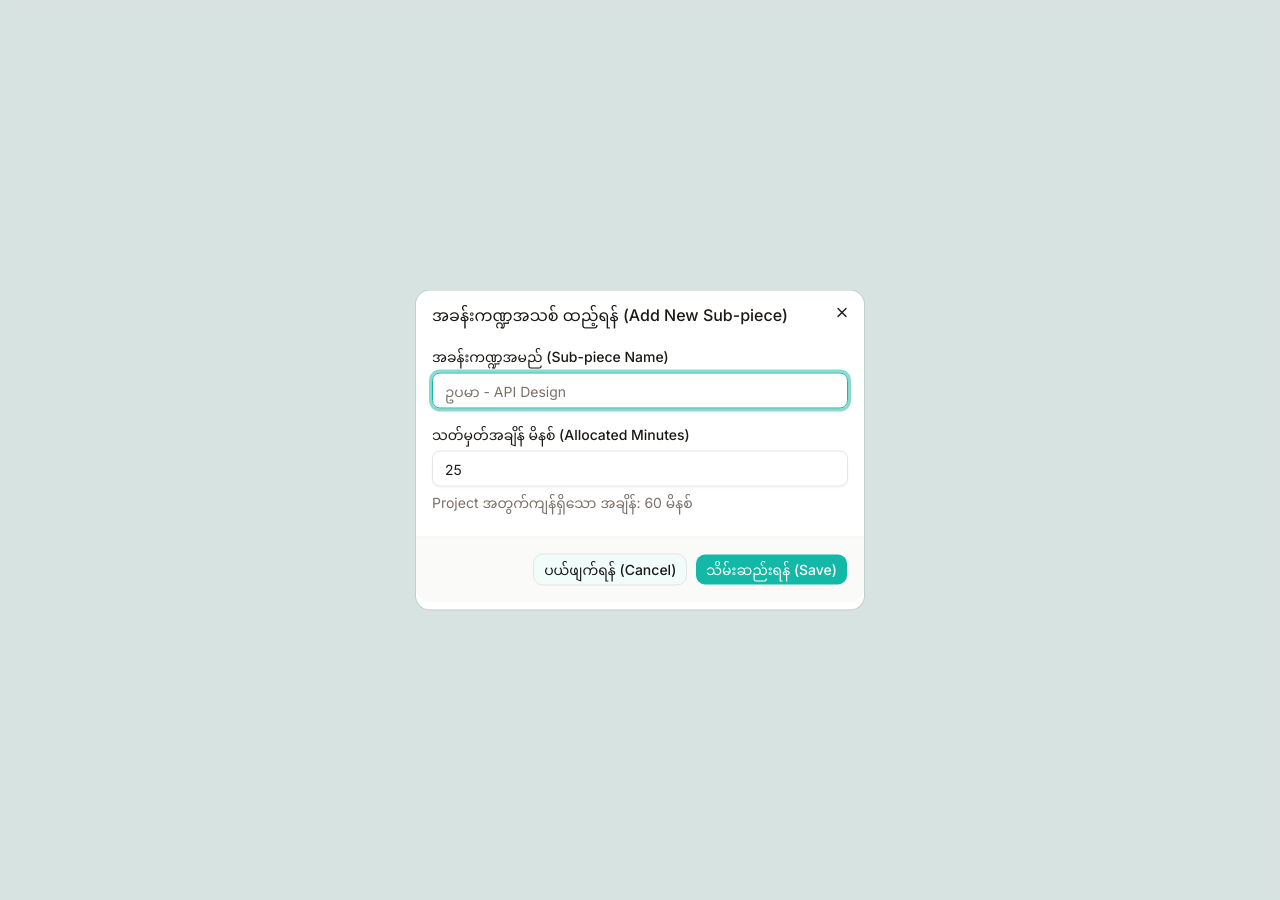
SubPieceForm › over-budget blocks Save and shows error
This screenshot has width=1280, height=900.
Type "Over Budget Task" into the field labelled "အခန်းကဏ္ဍအမည် (Sub-piece Name)".
click(640, 390); type("Over Budget Task")  # box left=432, top=372, right=848, bottom=408
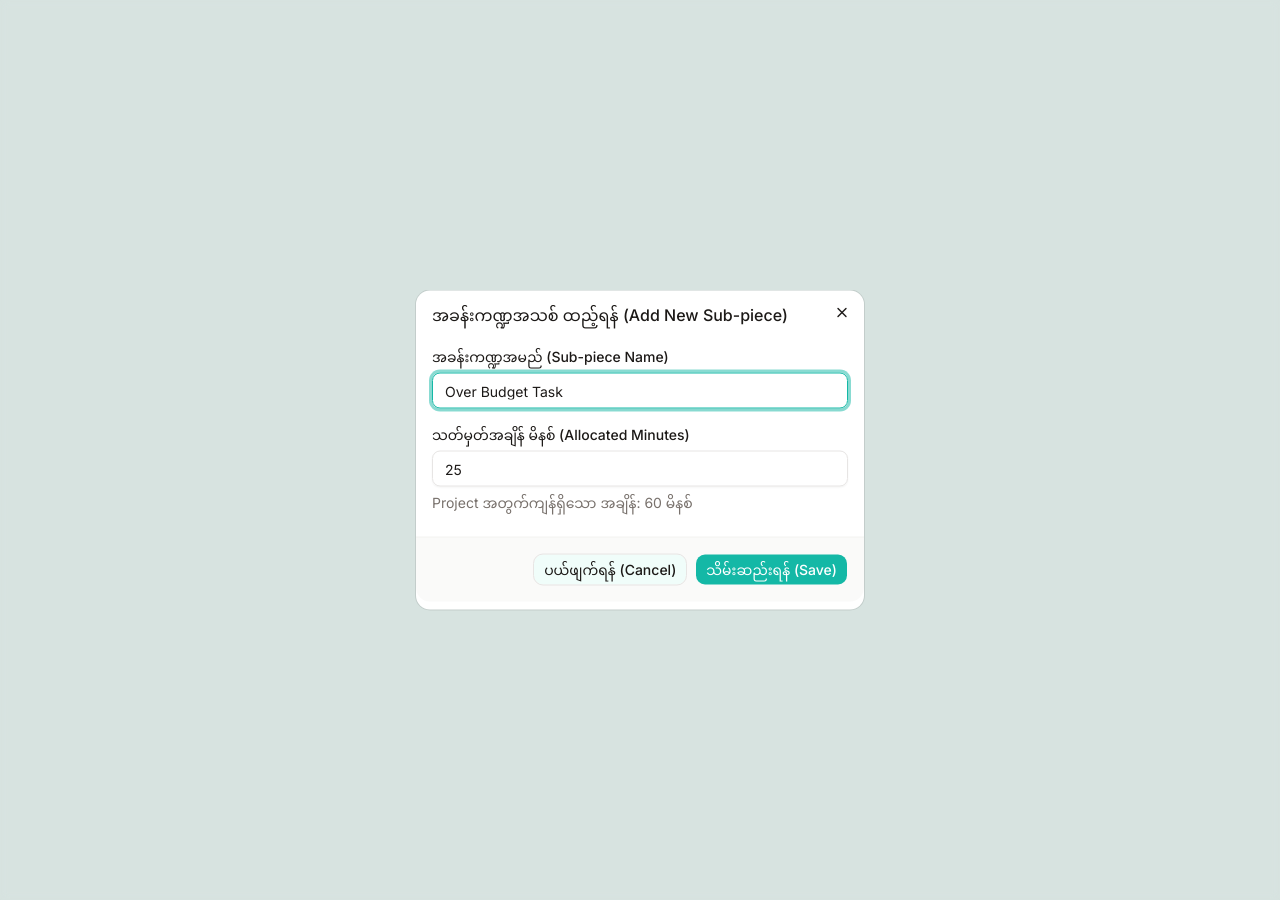
Replace the text in the number field labelled "သတ်မှတ်အချိန် မိနစ် (Allocated Minutes)" with "90" at (640, 468), box left=432, top=450, right=848, bottom=486
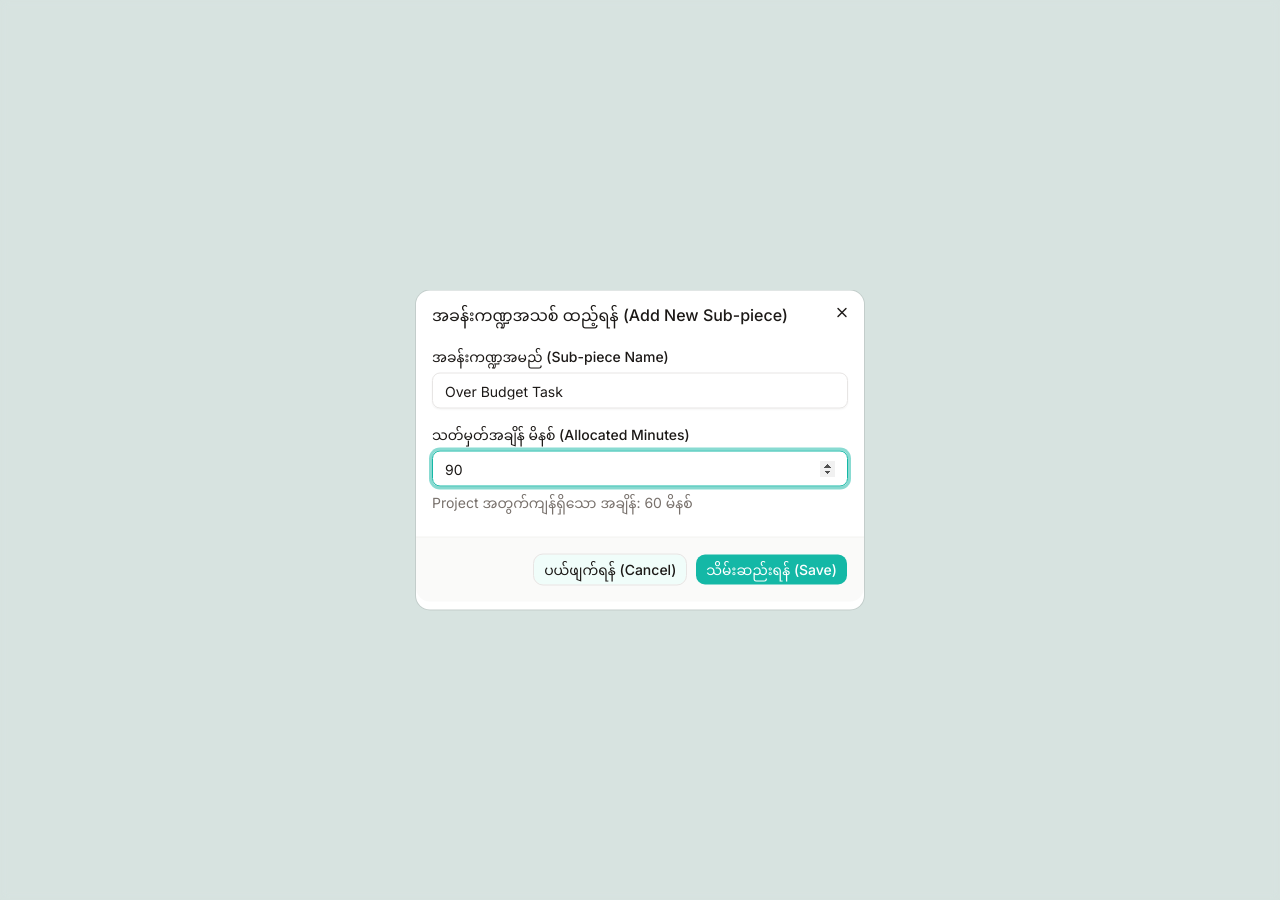
Click the button "သိမ်းဆည်းရန် (Save)".
click(772, 570)  # box left=695, top=554, right=848, bottom=586
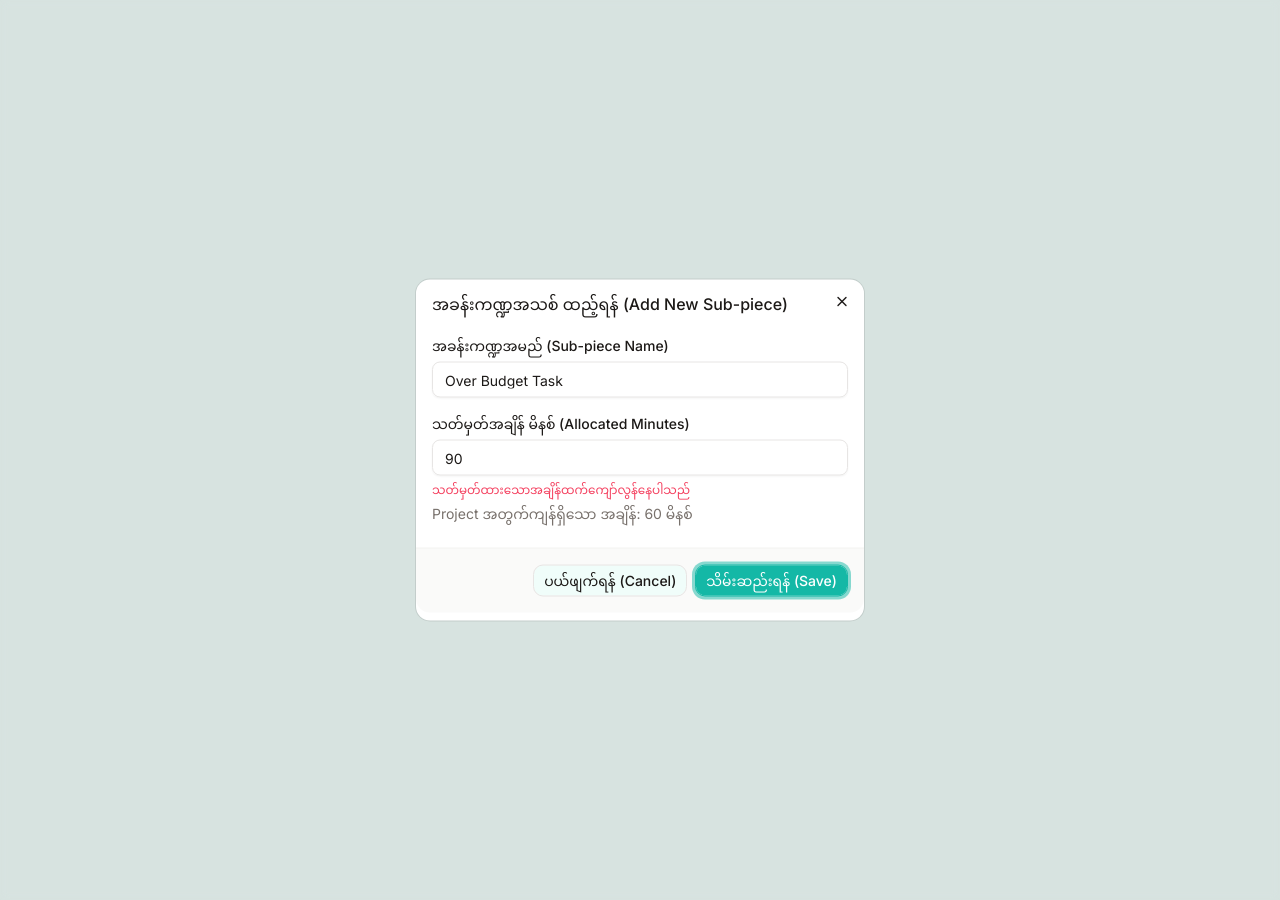
Check: the text "သတ်မှတ်ထားသောအချိန်ထက်ကျော်လွန်နေပါသည်" is shown, box left=432, top=482, right=690, bottom=496
